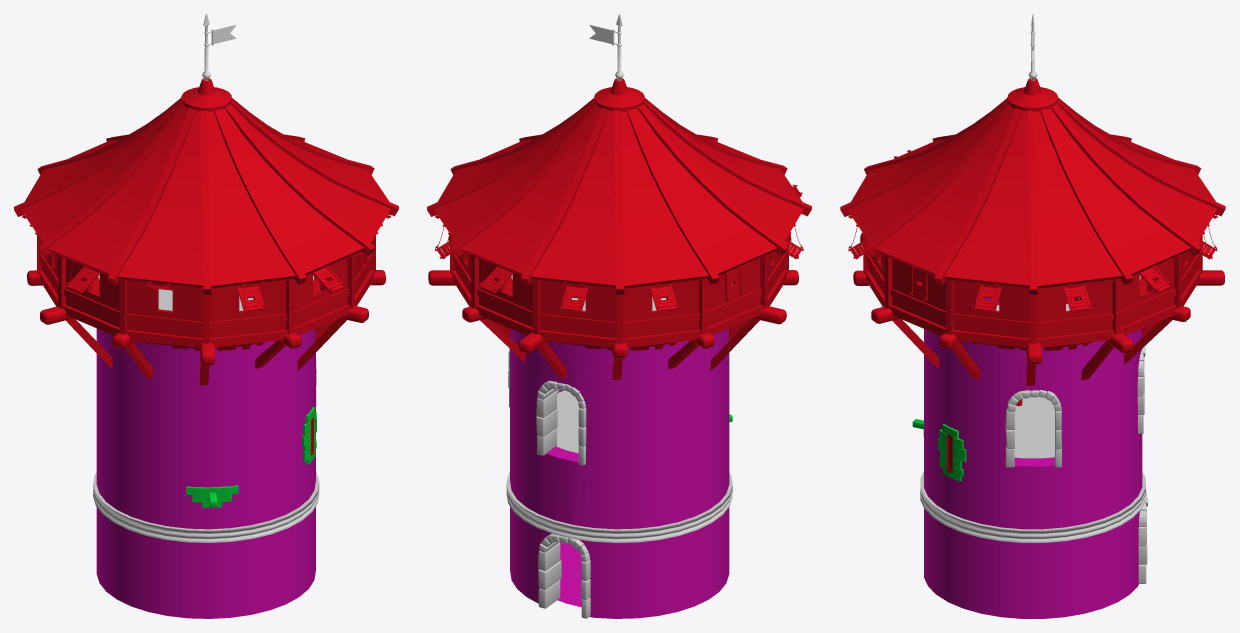
File: Tower_5.fbx
3 renders of one model, left to right at view 1: azimuth 30°, elevation 25°; view 2: azimuth 150°, elevation 25°; view 3: azimuth 270°, elevation 25°, orthographic.
Visible parts, largest first — view 1: Group_4.007, Tower_1.004, Group_2, Group_2.007, Group_4.011; view 2: Group_4.007, Tower_1.004, Group_4.011; view 3: Group_4.007, Tower_1.004, Group_2.007.
Part boxes in pixels (x1,y1,x2,y2): Group_4.007: (14, 78, 398, 385); Tower_1.004: (93, 328, 319, 618); Group_2: (186, 485, 238, 507); Group_2.007: (302, 407, 316, 464); Group_4.011: (202, 14, 236, 80); Group_4.007: (427, 78, 811, 379); Tower_1.004: (506, 328, 732, 618); Group_4.011: (589, 14, 623, 80); Group_4.007: (840, 78, 1225, 385); Tower_1.004: (920, 297, 1147, 618); Group_2.007: (938, 424, 966, 481).
Bounding box in the file's own units: 1138 × 1813 × 1133.
